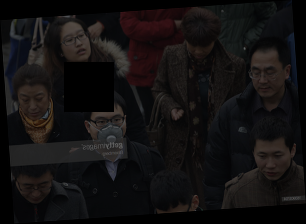with_mask: (88, 113, 128, 149)
without_mask: (252, 147, 291, 182), (250, 63, 285, 100), (59, 27, 92, 64), (17, 89, 49, 121), (17, 177, 52, 204), (186, 40, 214, 60)
